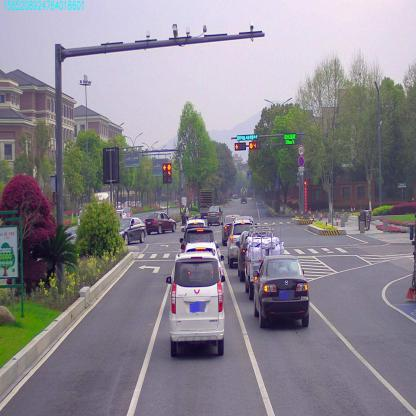traffic-light: (234, 134, 258, 140), (248, 142, 260, 149), (234, 142, 245, 149)
